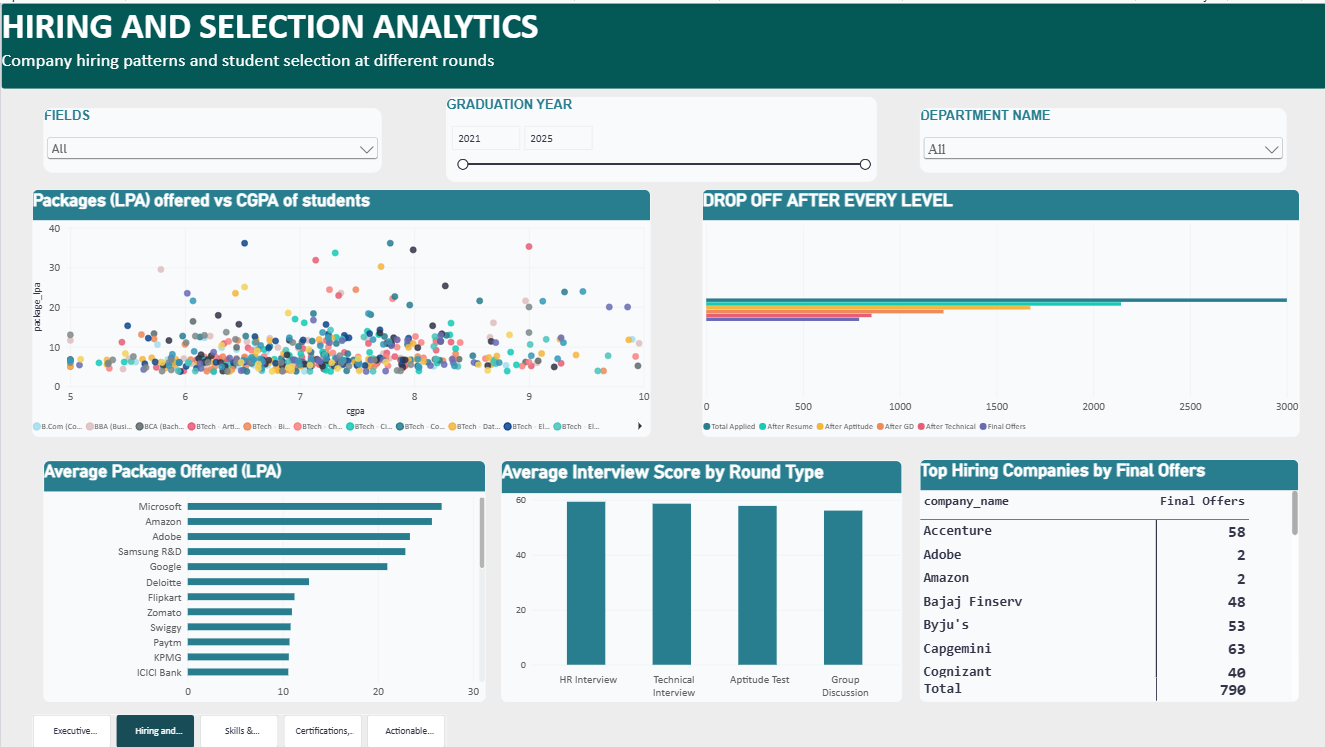

This screenshot's page, from the dashboard's own definition file:
{"tool":"powerbi","page":{"name":"Hiring and Selection Analytics","canvas":[1920,1080],"ordinal":1},"visuals":[{"type":"clusteredBarChart","title":"DROP OFF AFTER EVERY LEVEL","fields":{"Y":["_Key Measures.Step 1_Total Applied","_Key Measures.Step 2_After Resume","_Key Measures.Step 3_After Aptitude","_Key Measures.Step 4_After GD","_Key Measures.Step 5_After Technical","_Key Measures.Step 6_Final Offers"]},"box":[1014.8,269.6,864.5,358.1],"z":0},{"type":"scatterChart","title":"Packages (LPA) offered vs CGPA of students","fields":{"Series":["departments.department_name"],"X":["academic_records.cgpa"],"Y":["placements.package_lpa"]},"box":[45.3,269.6,895.4,358.1],"z":1000},{"type":"clusteredColumnChart","title":"Average Interview Score by Round Type","fields":{"Category":["interviews.round_type"],"Y":["_Key Measures.Avg Interview Score"]},"box":[724.5,662.8,580.4,349.9],"z":2000},{"type":"slicer","title":"FIELDS","fields":{"Values":["companies.sector"]},"box":[61.7,152.3,489.6,93.8],"z":3000},{"type":"clusteredBarChart","title":"Average Package Offered (LPA)","fields":{"Category":["companies.company_name"],"Y":["Avg(job_requirements.package_offered_lpa)"]},"box":[61.7,662.8,640.1,349.9],"z":4000},{"type":"pivotTable","title":"Top Hiring Companies by Final Offers","fields":{"Rows":["companies.company_name"],"Values":["_Key Measures.Final Offers"]},"box":[1329.7,660.7,548.9,351.1],"z":5000},{"type":"slicer","title":"GRADUATION YEAR","fields":{"Values":["students (2).graduation_year"]},"box":[644.3,135.8,623.7,123.5],"z":6000},{"type":"slicer","title":"DEPARTMENT NAME","fields":{"Values":["departments.department_name"]},"box":[1329.7,152.3,531.1,93.3],"z":7000},{"type":"pageNavigator","box":[44.4,1028.9,600,50],"z":8000},{"type":"textbox","box":[0,0,1920,124.4],"z":9000}]}

Visuals, with their boxes in screenshot pixels (x1, y1, x2, y2), scaled from the page's 1920x1080 canvas onto the 1325x747 screenshot:
"DROP OFF AFTER EVERY LEVEL" clusteredBarChart: bbox(700, 186, 1297, 434)
"Packages (LPA) offered vs CGPA of students" scatterChart: bbox(31, 186, 649, 434)
"Average Interview Score by Round Type" clusteredColumnChart: bbox(500, 458, 901, 700)
"FIELDS" slicer: bbox(43, 105, 380, 170)
"Average Package Offered (LPA)" clusteredBarChart: bbox(43, 458, 484, 700)
"Top Hiring Companies by Final Offers" pivotTable: bbox(918, 457, 1296, 700)
"GRADUATION YEAR" slicer: bbox(445, 94, 875, 179)
"DEPARTMENT NAME" slicer: bbox(918, 105, 1284, 170)
pageNavigator: bbox(31, 712, 445, 746)
textbox: bbox(0, 0, 1324, 86)
